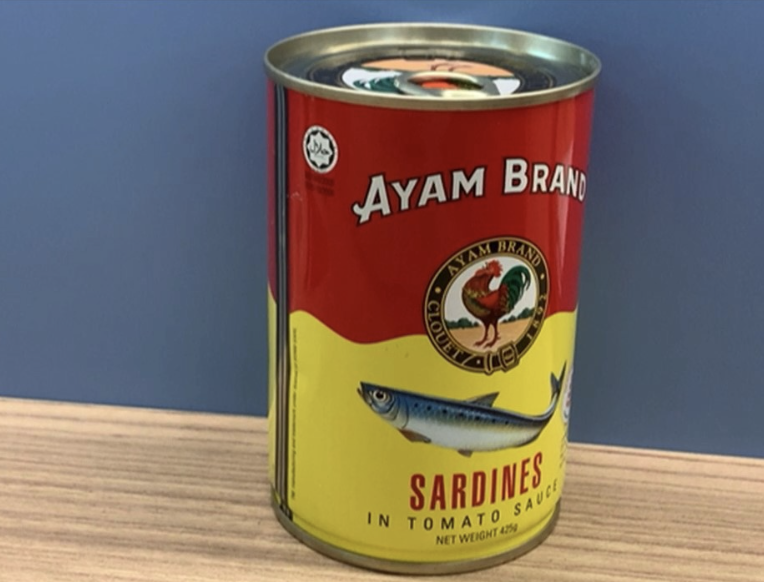sardines_450g: (294, 62, 562, 541)
